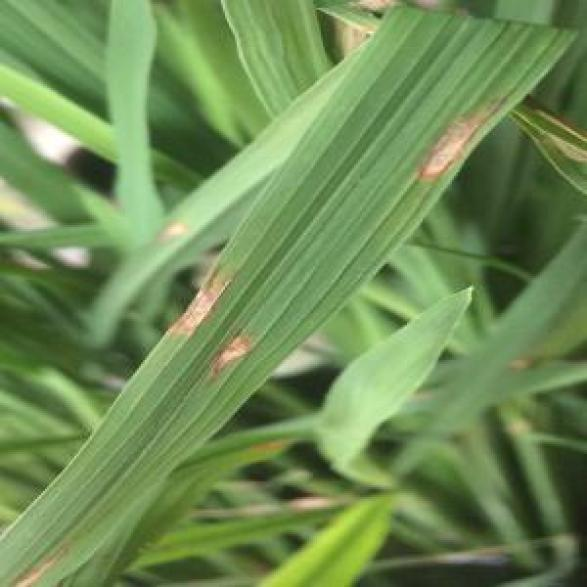Leaf_smut: (380, 74, 526, 204), (131, 233, 243, 344), (178, 319, 284, 395)
